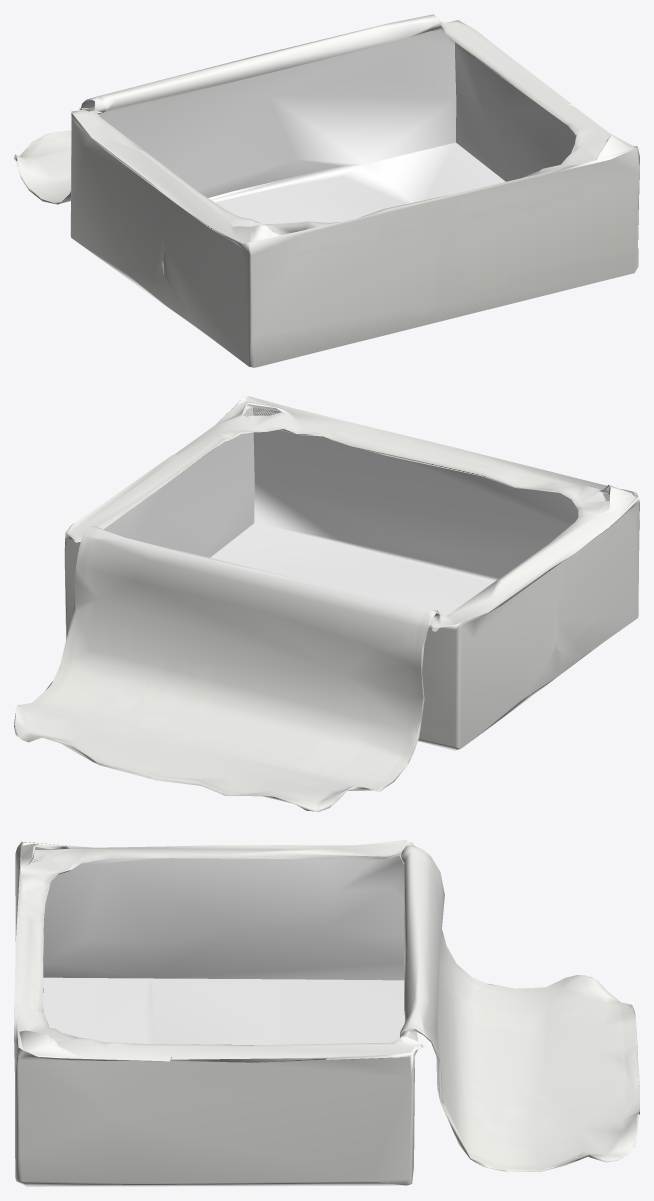
File: 06 - SKUBB - 收納盒, 白色, 65x53x19 公分 IKEA 線上購物.glb
The picture shows the model from 3 angles, top to bottom: view 1: azimuth 30°, elevation 25°; view 2: azimuth 150°, elevation 25°; view 3: azimuth 270°, elevation 25°; orthographic projection. The views are drawn at different scales.
Parts seen in each view (by area): view 1: ASY_ART_10591059_S02_NV01; view 2: ASY_ART_10591059_S02_NV01; view 3: ASY_ART_10591059_S02_NV01.
Boxes of the visible parts, box(x1,y1,x2,y2) form: ASY_ART_10591059_S02_NV01: box(14, 14, 639, 367); ASY_ART_10591059_S02_NV01: box(14, 396, 639, 811); ASY_ART_10591059_S02_NV01: box(14, 840, 639, 1186).
Bounding box in the file's own units: 0.6682 × 0.2163 × 0.826.
Materials: 2 (2 with a texture image).
